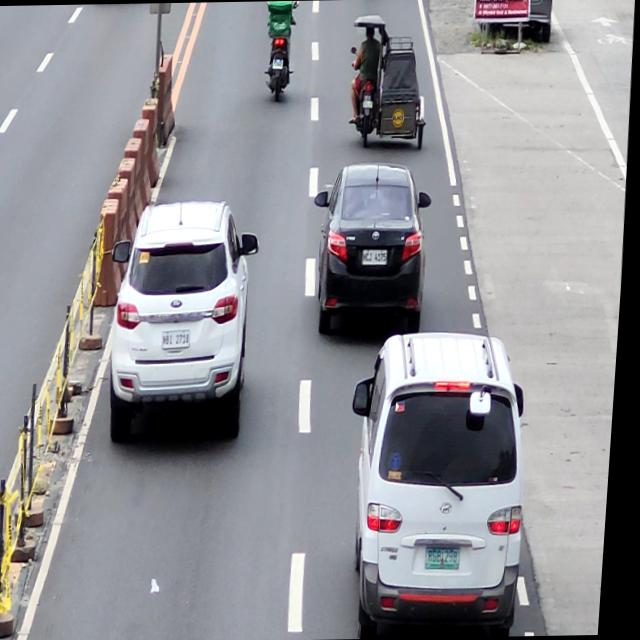Car: (344, 330, 542, 639), (105, 198, 268, 448), (309, 161, 439, 336)
License-Plate: (432, 546, 468, 570), (165, 330, 196, 347), (365, 248, 390, 266), (272, 58, 284, 70), (363, 99, 374, 108)
Motorcycle: (262, 0, 300, 102)
Tricycle: (347, 10, 434, 152)
